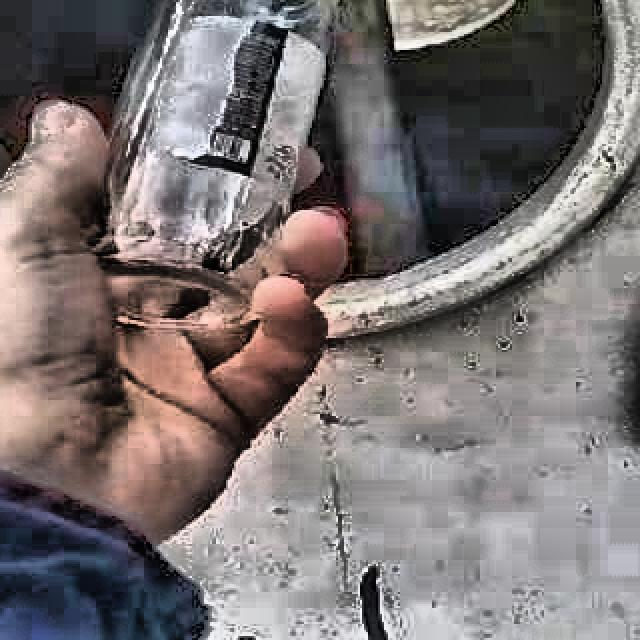glass: (101, 0, 337, 330)
